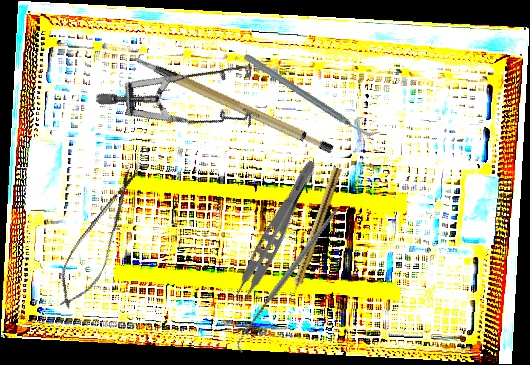Chopper: (241, 16, 382, 175)
Handpiece: (285, 165, 343, 301)
Hook Surgical: (201, 206, 376, 354)
Micro Scissor: (47, 160, 149, 317)
Scalpel Handle: (131, 25, 337, 179)
Speculum: (93, 4, 278, 176)
Tissue Forceps: (223, 153, 320, 312)
